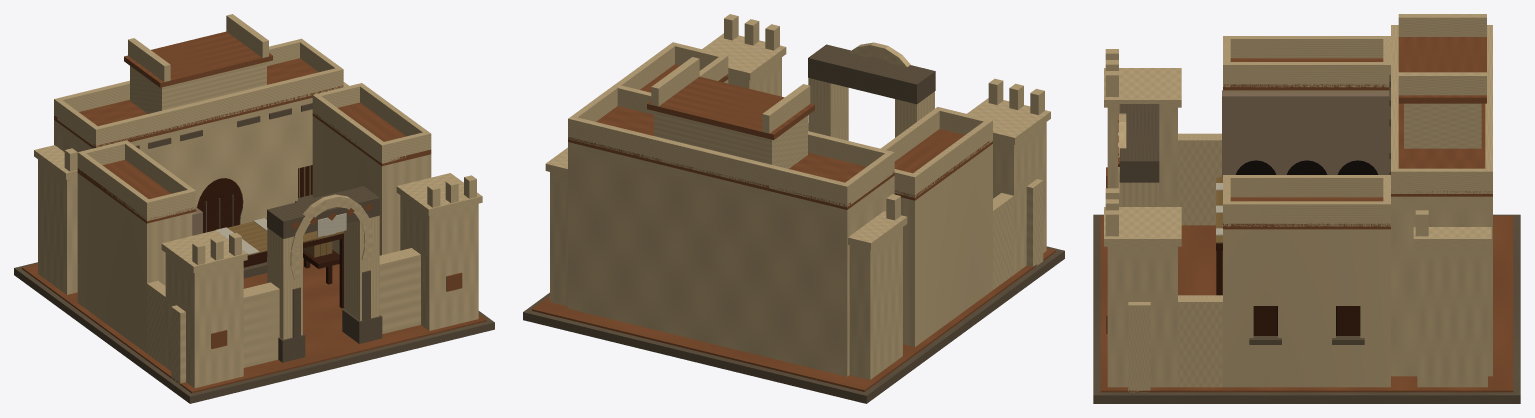
Rendered from Berber_TC_Age4.fbx.
3 views of the same model, side by side, from view 1: azimuth 30°, elevation 25°; view 2: azimuth 150°, elevation 25°; view 3: azimuth 270°, elevation 25° (orthographic). The views are drawn at different scales.
Visible parts, largest first — view 1: rear_council_hall, west_range, corner_watch_room, council_courtyard, corner_watch_room.002, east_range, foundation, hall_parapet_long, corner_watch_room.001, front_enclosure, pavilion_cap, raised_council_roof_pavilion (+32 smaller); view 2: rear_council_hall, west_range, corner_watch_room.001, foundation, hall_parapet_long.001, council_courtyard, pavilion_cap, entry_lintel, raised_council_roof_pavilion, corner_watch_room, hall_roof, hall_parapet_long (+20 smaller); view 3: east_range, courtyard_arcade_wall, council_courtyard, corner_watch_room.003, corner_watch_room.002, foundation, rear_council_hall, side_enclosure_link.001, pavilion_cap, east_parapet_end.001, west_parapet_end.001, side_enclosure_link (+25 smaller).
Part boxes in pixels (x1,y1,x2,y2): rear_council_hall: (54,98,312,224); west_range: (77,173,196,353); corner_watch_room: (165,253,243,388); council_courtyard: (22,258,486,393); corner_watch_room.002: (400,195,478,330); east_range: (312,116,431,264); foundation: (14,262,494,403); hall_parapet_long: (93,67,343,147); corner_watch_room.001: (38,159,77,294); front_enclosure: (171,282,279,384); pavilion_cap: (124,31,272,87); raised_council_roof_pavilion: (130,62,266,113); rear_council_hall: (568,142,894,376); west_range: (901,144,992,346); corner_watch_room.001: (849,227,902,379); foundation: (523,246,1064,403); hall_parapet_long.001: (568,116,850,207); council_courtyard: (532,248,1055,391); pavilion_cap: (647,76,814,139); entry_lintel: (808,44,935,104); raised_council_roof_pavilion: (654,111,807,168); corner_watch_room: (993,122,1046,274); hall_roof: (568,106,894,209); hall_parapet_long: (612,84,894,174); east_range: (1223,229,1390,387); courtyard_arcade_wall: (1222,90,1390,251); council_courtyard: (1100,215,1513,392); corner_watch_room.003: (1417,246,1487,387); corner_watch_room.002: (1107,246,1177,387); foundation: (1093,214,1520,403); rear_council_hall: (1391,196,1492,376); side_enclosure_link.001: (1178,295,1222,387); pavilion_cap: (1398,37,1486,103); east_parapet_end.001: (1230,201,1383,226); west_parapet_end.001: (1230,62,1383,87); side_enclosure_link: (1178,133,1221,225).
Bounding box in the file's own units: 800 × 555 × 800.
Materials: 7 (7 with a texture image).
